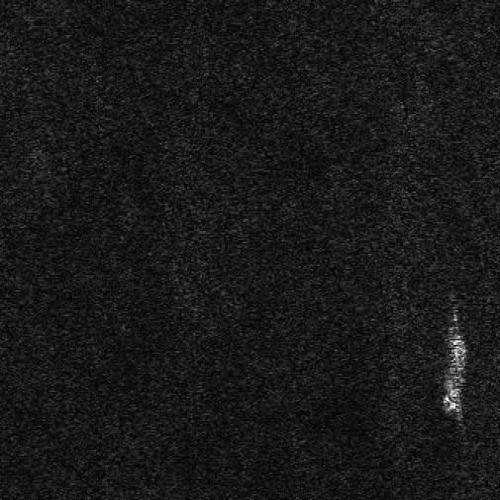ship: (443, 333, 467, 418)
